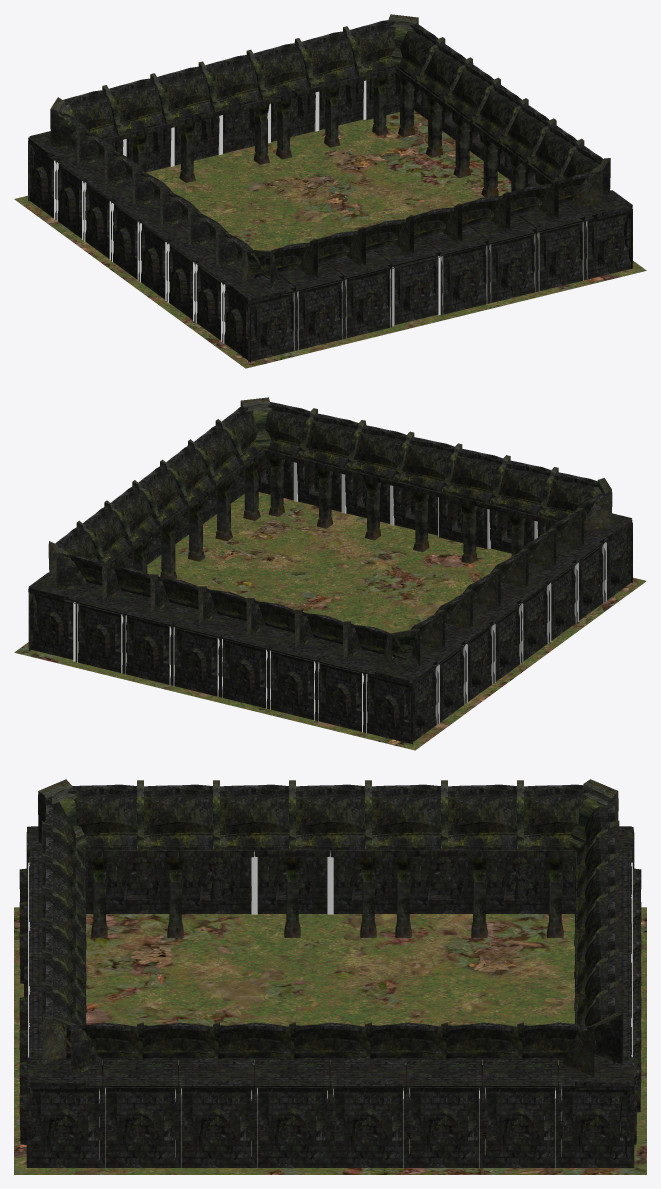
The model's file is BossMap2.fbx.
The picture shows the model from 3 angles, top to bottom: view 1: azimuth 30°, elevation 25°; view 2: azimuth 150°, elevation 25°; view 3: azimuth 270°, elevation 25°; orthographic projection. The views are drawn at different scales.
Parts seen in each view (by area): view 1: Plane, Large_Single_Statue_Wall_01_31, Large_Single_Statue_Wall_01_25, Large_Single_Statue_Wall_01_29, Large_Single_Statue_Wall_01_30, Large_Single_Statue_Wall_01_27, Large_Single_Statue_Wall_01_32, Large_Single_Statue_Wall_01_26, Large_Single_Statue_Wall_01_28, Roofing_01_4, Roofing_01_2, Roofing_01_3 (+71 smaller); view 2: Plane, Large_Single_Statue_Wall_01_14, Large_Single_Statue_Wall_01_13, Large_Single_Statue_Wall_01_9, Large_Single_Statue_Wall_01_16, Large_Single_Statue_Wall_01_15, Large_Single_Statue_Wall_01_10, Large_Single_Statue_Wall_01_12, Large_Single_Statue_Wall_01_11, Roofing_01_28, Roofing_01_27, Roofing_01_31 (+72 smaller); view 3: Plane, Large_Single_Statue_Wall_01_20, Large_Single_Statue_Wall_01_23, Large_Single_Statue_Wall_01_24, Large_Single_Statue_Wall_01_21, Large_Single_Statue_Wall_01_22, Large_Single_Statue_Wall_01_17, Large_Single_Statue_Wall_01_19, Large_Single_Statue_Wall_01_18, Roofing_01_18, Roofing_01_22, Roofing_01_23 (+60 smaller).
Boxes of the visible parts, box(x1,y1,x2,y2) form: Plane: box(14, 110, 646, 368); Large_Single_Statue_Wall_01_31: box(440, 243, 488, 315); Large_Single_Statue_Wall_01_25: box(488, 232, 536, 303); Large_Single_Statue_Wall_01_29: box(344, 267, 392, 338); Large_Single_Statue_Wall_01_30: box(537, 220, 584, 291); Large_Single_Statue_Wall_01_27: box(296, 279, 344, 350); Large_Single_Statue_Wall_01_32: box(248, 290, 295, 362); Large_Single_Statue_Wall_01_26: box(585, 208, 632, 279); Large_Single_Statue_Wall_01_28: box(392, 254, 438, 324); Roofing_01_4: box(253, 43, 309, 98); Roofing_01_2: box(157, 66, 213, 121); Roofing_01_3: box(205, 54, 261, 109); Plane: box(14, 492, 646, 750); Large_Single_Statue_Wall_01_14: box(124, 613, 172, 685); Large_Single_Statue_Wall_01_13: box(172, 625, 220, 696); Large_Single_Statue_Wall_01_9: box(220, 637, 268, 708); Large_Single_Statue_Wall_01_16: box(268, 649, 316, 720); Large_Single_Statue_Wall_01_15: box(76, 602, 123, 673); Large_Single_Statue_Wall_01_10: box(316, 661, 364, 732); Large_Single_Statue_Wall_01_12: box(365, 672, 412, 744); Large_Single_Statue_Wall_01_11: box(31, 594, 75, 659); Roofing_01_28: box(447, 448, 502, 503); Roofing_01_27: box(399, 437, 454, 492); Roofing_01_31: box(495, 460, 550, 515); Plane: box(14, 907, 646, 1174); Large_Single_Statue_Wall_01_20: box(178, 1086, 254, 1167); Large_Single_Statue_Wall_01_23: box(254, 1086, 330, 1167); Large_Single_Statue_Wall_01_24: box(102, 1086, 178, 1167); Large_Single_Statue_Wall_01_21: box(482, 1086, 558, 1167); Large_Single_Statue_Wall_01_22: box(406, 1086, 482, 1167); Large_Single_Statue_Wall_01_17: box(330, 1086, 406, 1167); Large_Single_Statue_Wall_01_19: box(26, 1086, 102, 1167); Large_Single_Statue_Wall_01_18: box(558, 1086, 634, 1167); Roofing_01_18: box(218, 784, 289, 850); Roofing_01_22: box(143, 784, 213, 850); Roofing_01_23: box(446, 784, 516, 850).
Size of the model in its own units: 10000 by 2442 by 10000.
8 materials, 7 textured.
